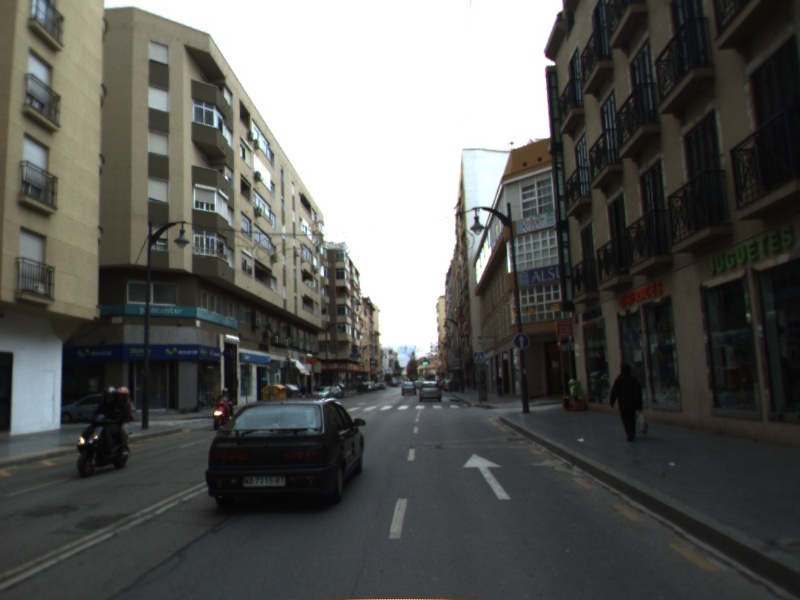STRAIGHT: (461, 451, 514, 502)
